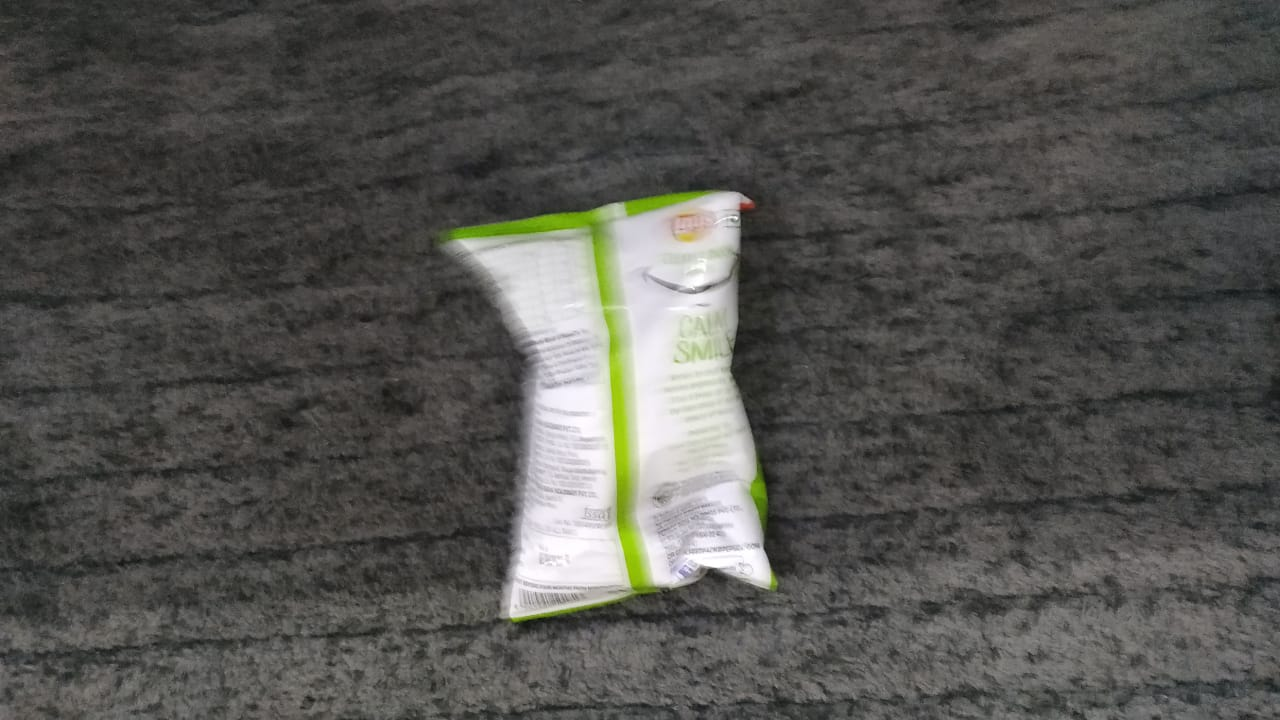lays chips: (390, 173, 873, 632)
